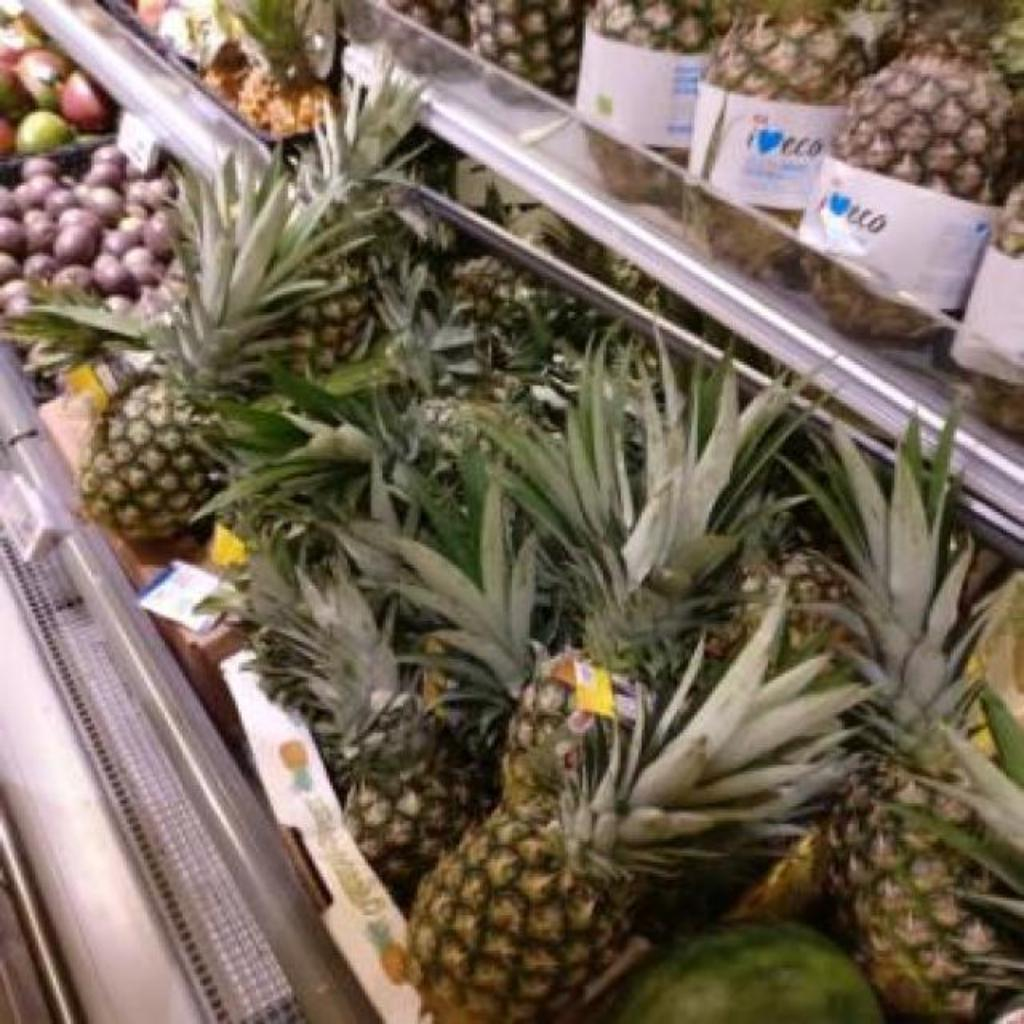pineapple: (410, 592, 864, 1024), (80, 86, 414, 542), (504, 352, 784, 808), (816, 432, 1024, 1023), (274, 578, 492, 907), (834, 0, 1024, 203), (578, 0, 726, 149), (710, 0, 868, 103), (235, 0, 332, 139), (290, 286, 374, 375), (388, 0, 467, 45), (202, 40, 250, 103)
